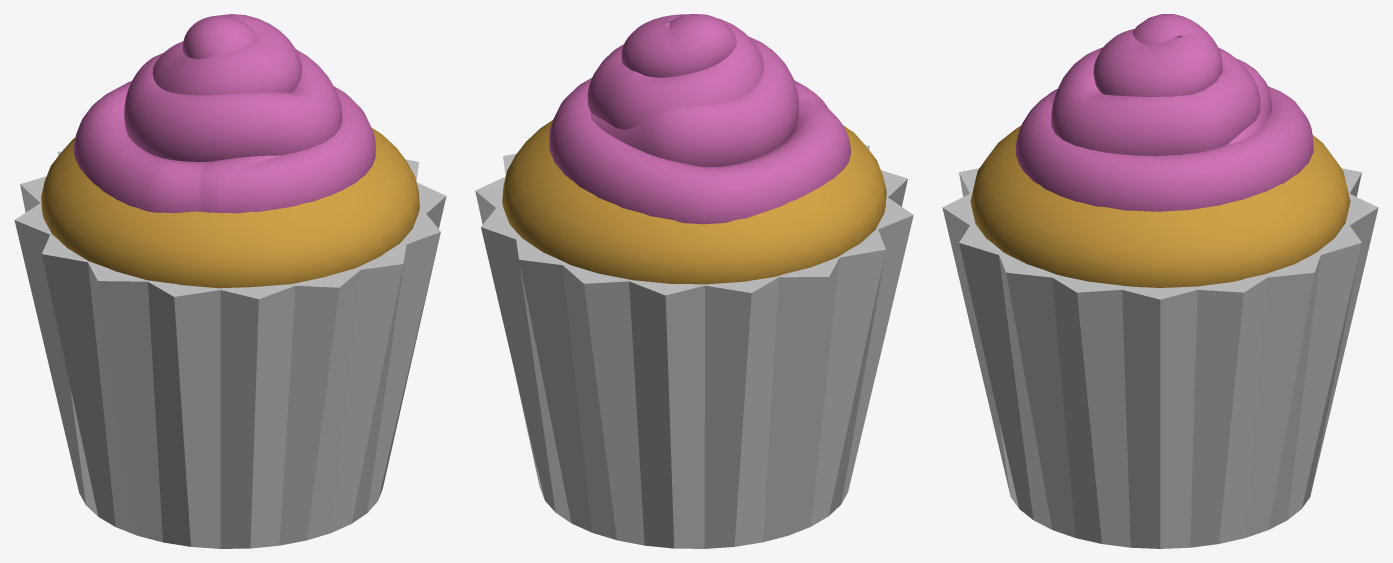
Rendered from muffin2.obj.
3 renders of one model, left to right at view 1: azimuth 30°, elevation 25°; view 2: azimuth 150°, elevation 25°; view 3: azimuth 270°, elevation 25°, orthographic.
Visible parts, largest first — view 1: Cylinder, BézierCurve, Sphere; view 2: Cylinder, BézierCurve, Sphere; view 3: Cylinder, BézierCurve, Sphere.
Boxes of the visible parts, x1,y1,x2,y2 form: Cylinder: (14, 151, 446, 548); BézierCurve: (73, 14, 375, 213); Sphere: (41, 127, 419, 288); Cylinder: (475, 145, 913, 548); BézierCurve: (549, 14, 850, 224); Sphere: (502, 120, 886, 284); Cylinder: (942, 168, 1378, 548); BézierCurve: (1015, 14, 1313, 211); Sphere: (970, 125, 1350, 287).
Bounding box in the file's own units: 2.86 × 3.35 × 2.86.
